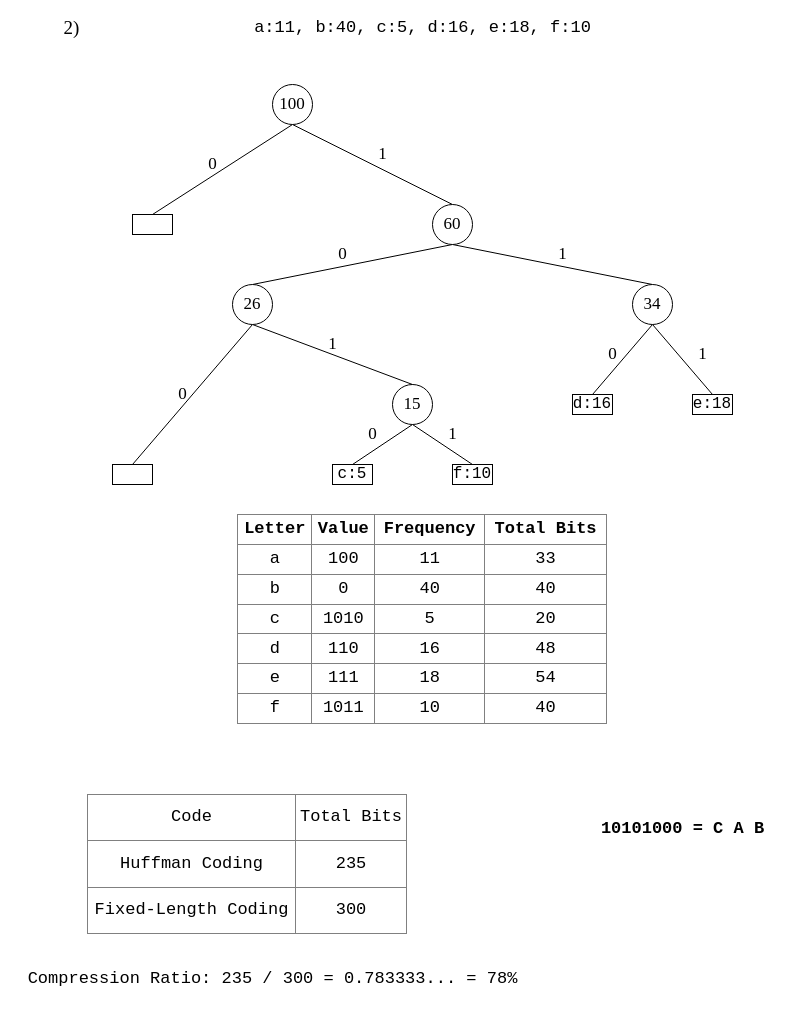
Some shapes in this 789 by 1012 pixel diagram are drawn without their labels. The centre of each missing label's shape, as x and y in pixels:
a:11: point 132,474
b:40: point 152,224
